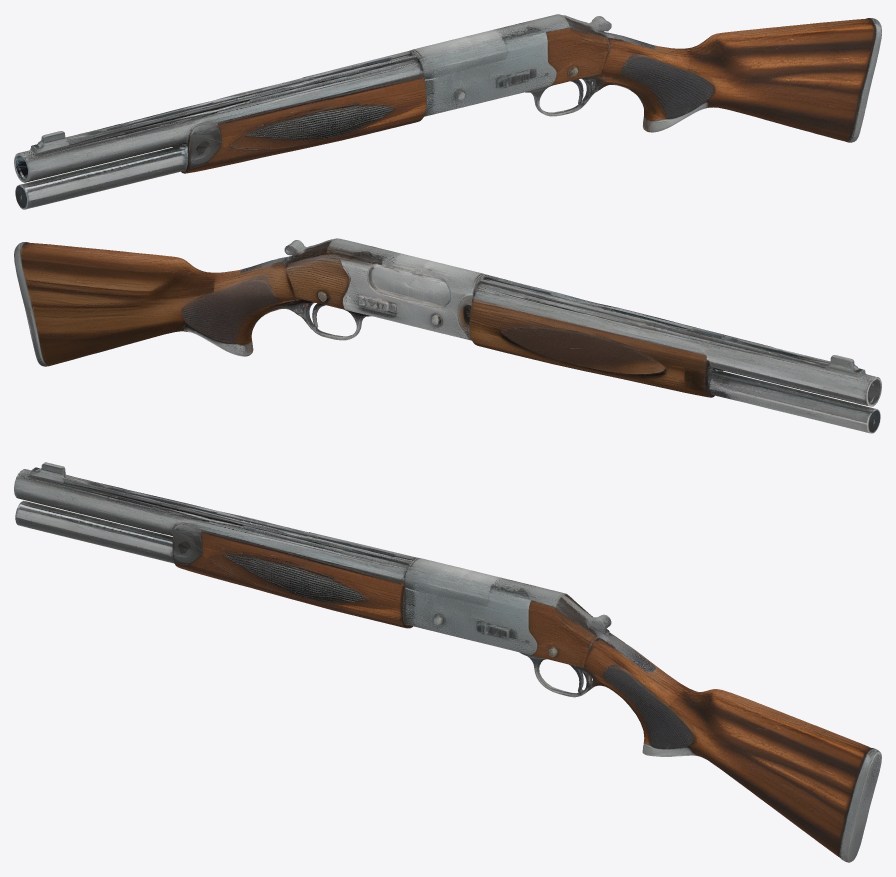
The model's file is rifle.glb.
The picture shows the model from 3 angles, top to bottom: view 1: azimuth 30°, elevation 25°; view 2: azimuth 150°, elevation 25°; view 3: azimuth 330°, elevation 25°; orthographic projection.
Bounding box in the file's own units: 1.9 × 0.4282 × 0.1095.
Materials: 1 (1 with a texture image).
